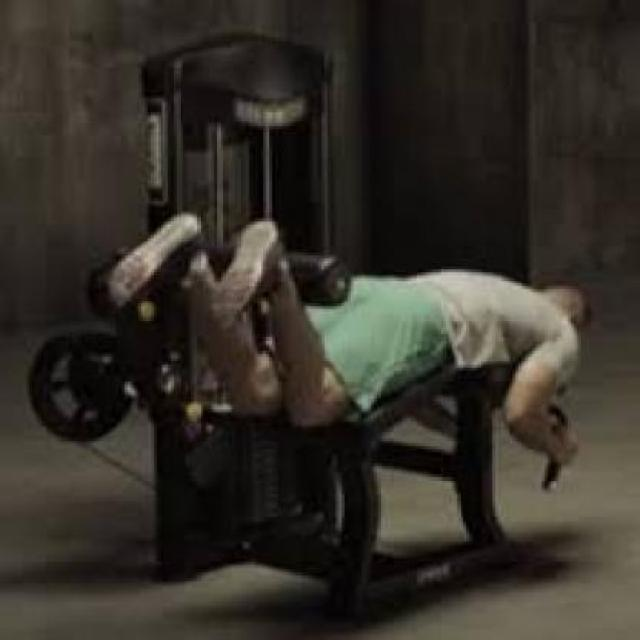reg curl machine: (20, 32, 623, 603)
